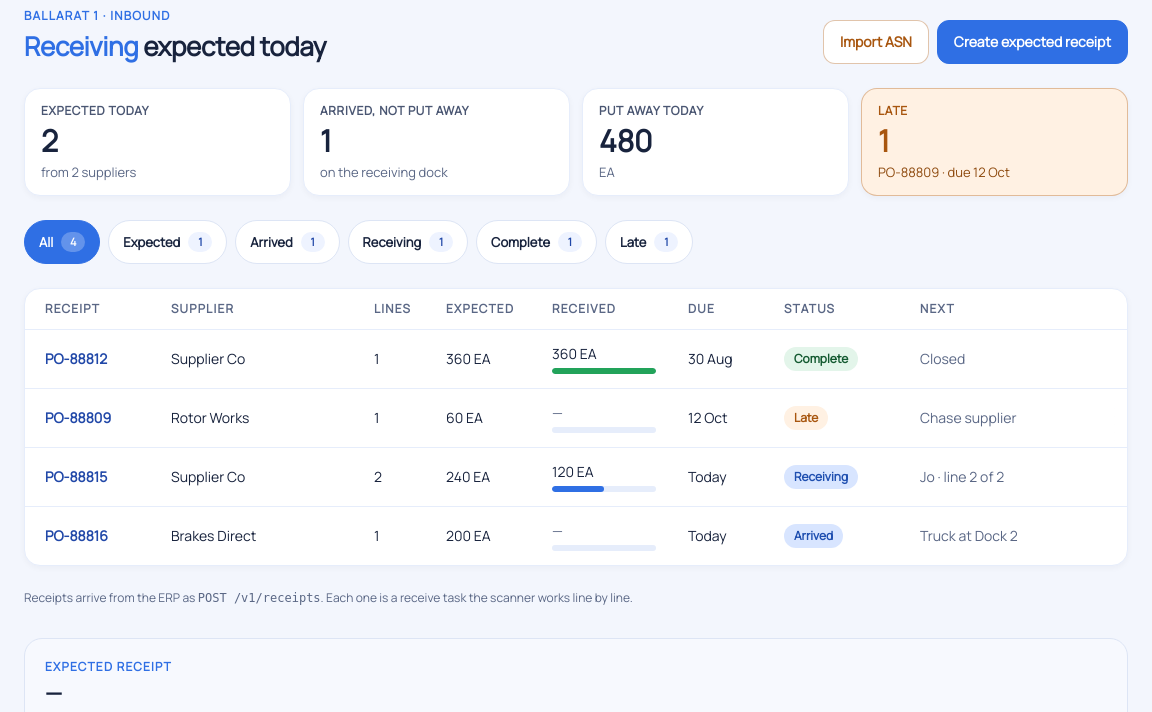
Receiving › shows the tiles and a row per receipt with the right pill
Check: the text "from 2 suppliers" is shown, box [41,163,136,181]
Check: the text "on the receiving dock" is shown, box [320,163,448,181]
Note: the Late filter keeps only the overdue receipt
Click the button "Late 1" at (649, 242), box [605,220,693,264]
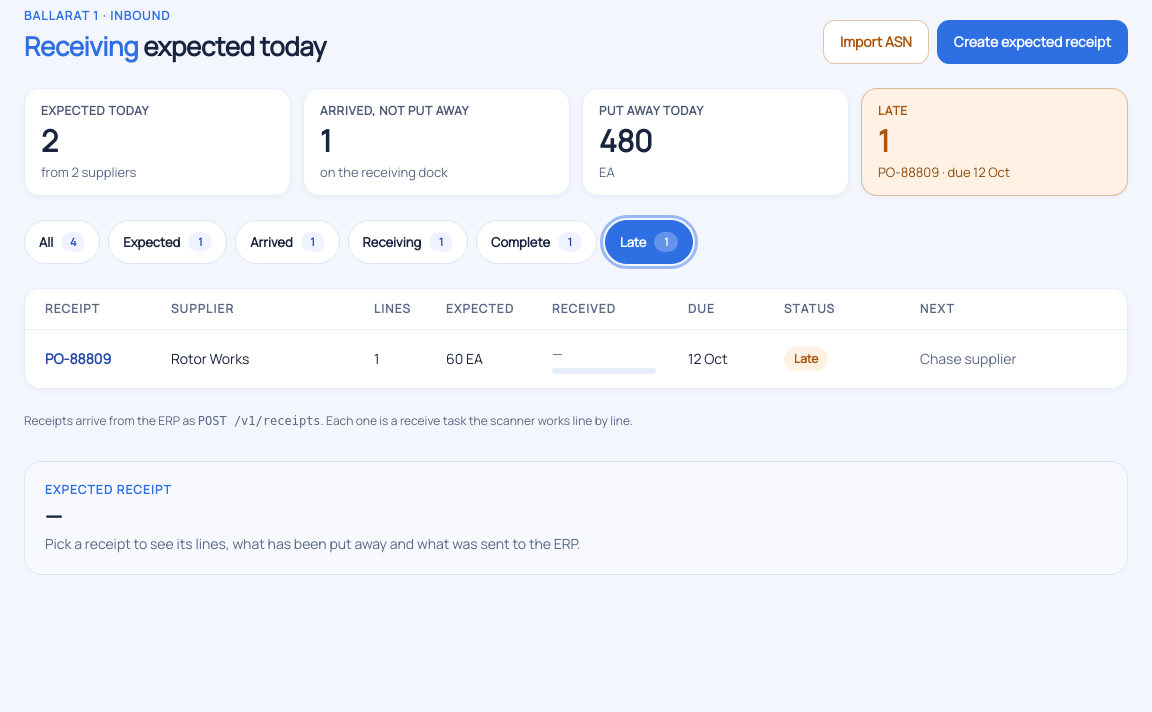
Check: the text "PO-88809" is shown, box [45,349,111,368]
Check: the button "PO-88815" is gone
